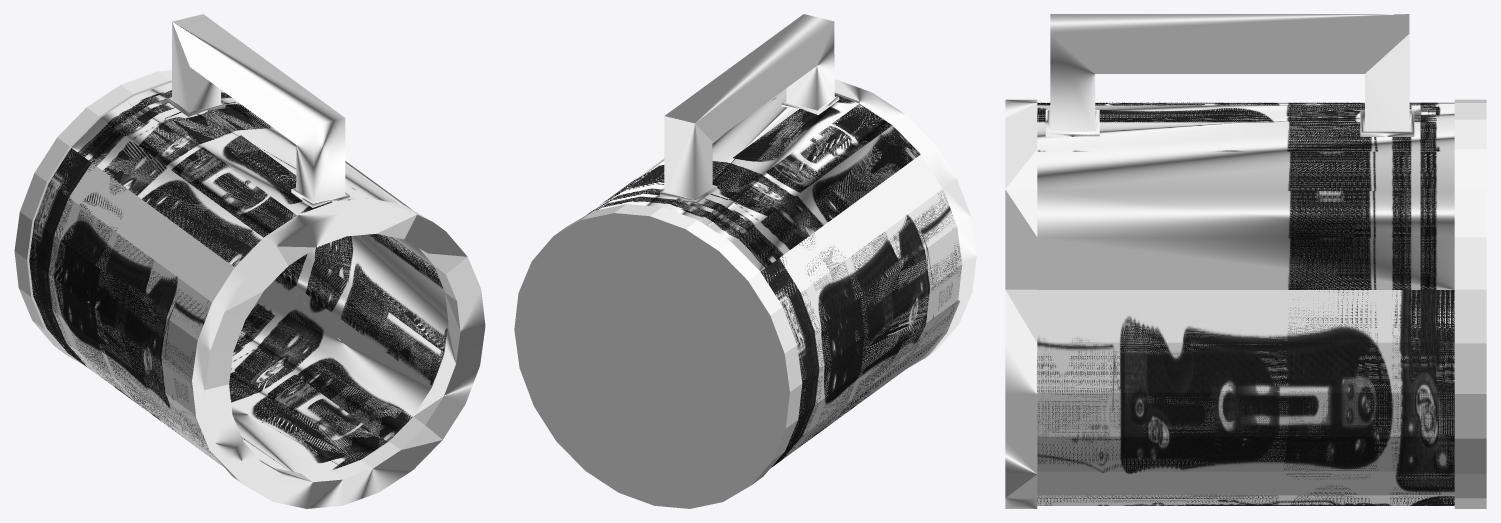
Rendered from model_align.obj.
3 renders of one model, left to right at view 1: azimuth 30°, elevation 25°; view 2: azimuth 150°, elevation 25°; view 3: azimuth 270°, elevation 25°, orthographic. The views are drawn at different scales.
Size of the model in its own units: 0.0936 by 0.1178 by 0.1097.
